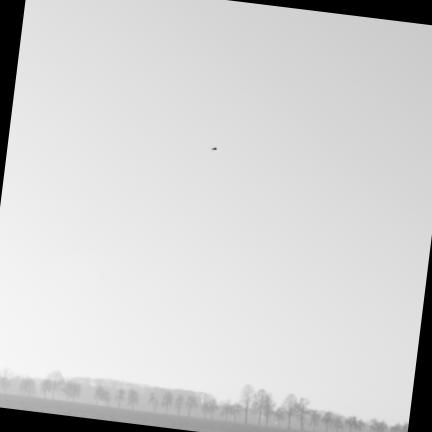Shahed: (210, 147, 216, 149)
